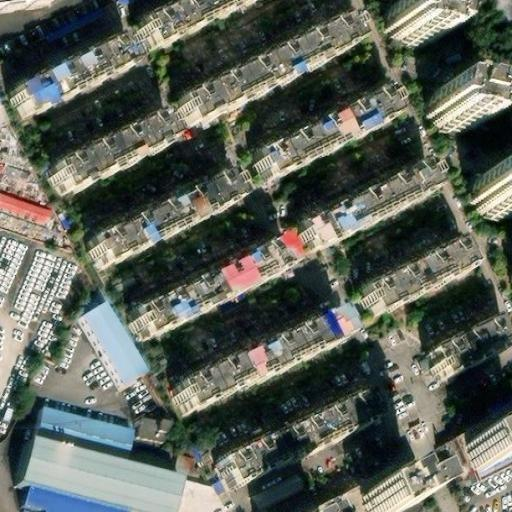building: (168, 17, 353, 134), (128, 233, 302, 340), (167, 317, 335, 419), (84, 168, 242, 271), (211, 396, 362, 491), (246, 94, 395, 190), (17, 441, 180, 512), (308, 158, 433, 248), (8, 38, 133, 120), (41, 119, 165, 199), (350, 246, 461, 325), (33, 405, 134, 467), (420, 321, 503, 388), (78, 304, 144, 388), (461, 410, 512, 470), (360, 468, 428, 512), (248, 470, 306, 512), (382, 7, 435, 50), (426, 92, 479, 133), (0, 191, 57, 228), (25, 489, 110, 512), (474, 176, 512, 216), (478, 449, 512, 483), (139, 418, 170, 442), (0, 105, 8, 123)
